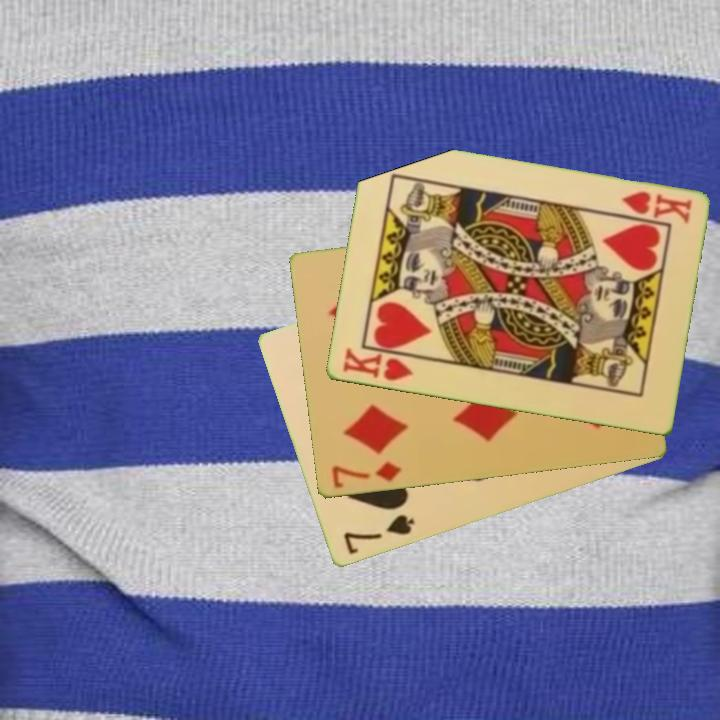7d: (328, 458, 405, 492)
7s: (339, 511, 417, 558)
Kh: (338, 345, 423, 384), (617, 188, 694, 227)
